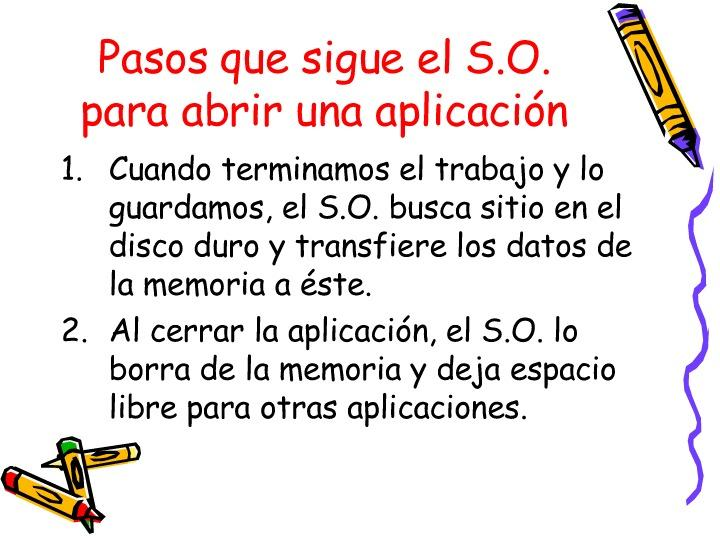paragraph: (102, 150, 669, 435)
title: (75, 29, 590, 137)
